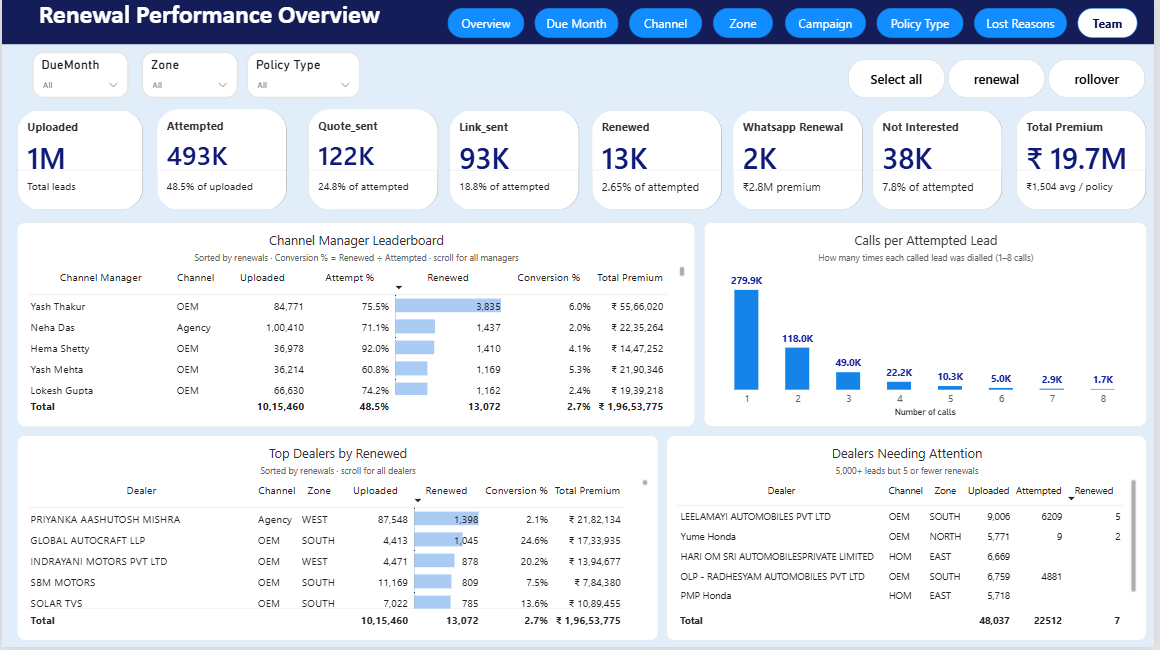

This screenshot's page, from the dashboard's own definition file:
{"tool":"powerbi","page":{"name":"Team","canvas":[1920,1080],"ordinal":7},"visuals":[{"type":"textbox","box":[0,0,1920,75],"z":0},{"type":"shape","box":[742.5,13.7,128,50],"z":1000,"group":"g1"},{"type":"advancedSlicerVisual","fields":{"Values":["RAW DATA(JAN-SEPT).campignname"]},"box":[1410,100,497.5,65],"z":1000},{"type":"cardVisual","fields":{"Data":["CountNonNull(RAW DATA(JAN-SEPT).assigned_id)"]},"box":[24.4,184.4,210.3,167.5],"z":1000,"group":"g2"},{"type":"group","id":"g1","title":"Group 1","box":[742.5,12.5,1150,52.5],"z":2000},{"type":"shape","box":[888.4,13.7,140,50],"z":2000,"group":"g1"},{"type":"cardVisual","fields":{"Data":["RAW DATA(JAN-SEPT).Attempted"]},"box":[256.4,183,217.6,170.8],"z":2000,"group":"g2"},{"type":"shape","box":[1046.2,13.7,122,50],"z":3000,"group":"g1"},{"type":"group","id":"g2","title":"Group 2","box":[24.4,183,1883.5,170.8],"z":3000},{"type":"shape","box":[1186.1,13.7,100,50],"z":4000,"group":"g1"},{"type":"slicer","fields":{"Values":["RAW DATA(JAN-SEPT).DueMonth"]},"box":[48.8,87.8,161,78.1],"z":4000,"group":"g3"},{"type":"tableEx","title":"Channel Manager Leaderboard","fields":{"Values":["RAW DATA(JAN-SEPT).ChannelManager","RAW DATA(JAN-SEPT).channel","RAW DATA(JAN-SEPT).Uploaded","RAW DATA(JAN-SEPT).Attempt %","RAW DATA(JAN-SEPT).Renewed","RAW DATA(JAN-SEPT).Conversion % (Matrix)","RAW DATA(JAN-SEPT).Total Premium"]},"box":[24,372,1130,340],"z":4000},{"type":"shape","box":[1303.9,13.7,135,50],"z":5000,"group":"g1"},{"type":"group","id":"g3","title":"Group 3","box":[48.8,87.8,549,78.1],"z":5000},{"type":"slicer","fields":{"Values":["RAW DATA(JAN-SEPT).dealerzone"]},"box":[231.8,87.8,161,78.1],"z":5000,"group":"g3"},{"type":"cardVisual","fields":{"Data":["RAW DATA(JAN-SEPT).Link_sent_count"]},"box":[744.8,185,217.9,167.5],"z":5000,"group":"g2"},{"type":"shape","box":[1456.8,13.7,145,50],"z":6000,"group":"g1"},{"type":"slicer","fields":{"Values":["RAW DATA(JAN-SEPT).renewal_type"]},"box":[407.5,87.8,190.3,78.1],"z":6000,"group":"g3"},{"type":"cardVisual","fields":{"Data":["RAW DATA(JAN-SEPT).Renewed"]},"box":[983,185,217.9,167.5],"z":6000,"group":"g2"},{"type":"clusteredColumnChart","title":"Calls per Attempted Lead","fields":{"Category":["RAW DATA(JAN-SEPT).attempt_count"],"Y":["RAW DATA(JAN-SEPT).Attempted"]},"box":[1170,372,738,340],"z":6000},{"type":"shape","box":[1619.6,13.7,155,50],"z":7000,"group":"g1"},{"type":"tableEx","title":"Top Dealers by Renewed","fields":{"Values":["RAW DATA(JAN-SEPT).DisplayName","RAW DATA(JAN-SEPT).channel","RAW DATA(JAN-SEPT).dealerzone","RAW DATA(JAN-SEPT).Uploaded","RAW DATA(JAN-SEPT).Renewed","RAW DATA(JAN-SEPT).Conversion % (Matrix)","RAW DATA(JAN-SEPT).Total Premium"]},"box":[24.4,727.1,1068.6,341.6],"z":7000},{"type":"shape","box":[1792.5,13.7,100,50],"z":8000,"group":"g1"},{"type":"tableEx","title":"Dealers Needing Attention","fields":{"Values":["RAW DATA(JAN-SEPT).DisplayName","RAW DATA(JAN-SEPT).channel","RAW DATA(JAN-SEPT).dealerzone","RAW DATA(JAN-SEPT).Uploaded","RAW DATA(JAN-SEPT).Attempted","RAW DATA(JAN-SEPT).Renewed"]},"box":[1107.7,727.1,800.3,341.6],"z":8000},{"type":"cardVisual","fields":{"Data":["RAW DATA(JAN-SEPT).Whatsapp_renewal_count"]},"box":[1216.1,185,217.9,167.5],"z":10000,"group":"g2"},{"type":"cardVisual","fields":{"Data":["RAW DATA(JAN-SEPT).Not Interested"]},"box":[1449.3,185,217.9,167.5],"z":11000,"group":"g2"},{"type":"cardVisual","fields":{"Data":["RAW DATA(JAN-SEPT).Total Premium"]},"box":[1690,185,217.9,167.5],"z":12000,"group":"g2"},{"type":"cardVisual","fields":{"Data":["RAW DATA(JAN-SEPT).Quote_sent"]},"box":[508.6,183,217.6,170.8],"z":12009,"group":"g2"}]}

Visuals, with their boxes in screenshot pixels (x1, y1, x2, y2), scaled from the page's 1920x1080 canvas onto the 1160x650 screenshot:
textbox: [left=0, top=0, right=1159, bottom=45]
shape: [left=449, top=8, right=526, bottom=38]
advancedSlicerVisual - RAW DATA(JAN-SEPT).campignname: [left=852, top=60, right=1152, bottom=99]
cardVisual - CountNonNull(RAW DATA(JAN-SEPT).assigned_id): [left=15, top=111, right=142, bottom=212]
"Group 1" group: [left=449, top=8, right=1143, bottom=39]
shape: [left=537, top=8, right=621, bottom=38]
cardVisual - RAW DATA(JAN-SEPT).Attempted: [left=155, top=110, right=286, bottom=213]
shape: [left=632, top=8, right=706, bottom=38]
"Group 2" group: [left=15, top=110, right=1153, bottom=213]
shape: [left=717, top=8, right=777, bottom=38]
slicer - RAW DATA(JAN-SEPT).DueMonth: [left=29, top=53, right=127, bottom=100]
"Channel Manager Leaderboard" tableEx: [left=14, top=224, right=697, bottom=429]
shape: [left=788, top=8, right=869, bottom=38]
"Group 3" group: [left=29, top=53, right=361, bottom=100]
slicer - RAW DATA(JAN-SEPT).dealerzone: [left=140, top=53, right=237, bottom=100]
cardVisual - RAW DATA(JAN-SEPT).Link_sent_count: [left=450, top=111, right=582, bottom=212]
shape: [left=880, top=8, right=968, bottom=38]
slicer - RAW DATA(JAN-SEPT).renewal_type: [left=246, top=53, right=361, bottom=100]
cardVisual - RAW DATA(JAN-SEPT).Renewed: [left=594, top=111, right=726, bottom=212]
"Calls per Attempted Lead" clusteredColumnChart: [left=707, top=224, right=1153, bottom=429]
shape: [left=979, top=8, right=1072, bottom=38]
"Top Dealers by Renewed" tableEx: [left=15, top=438, right=660, bottom=643]
shape: [left=1083, top=8, right=1143, bottom=38]
"Dealers Needing Attention" tableEx: [left=669, top=438, right=1153, bottom=643]
cardVisual - RAW DATA(JAN-SEPT).Whatsapp_renewal_count: [left=735, top=111, right=866, bottom=212]
cardVisual - RAW DATA(JAN-SEPT).Not Interested: [left=876, top=111, right=1007, bottom=212]
cardVisual - RAW DATA(JAN-SEPT).Total Premium: [left=1021, top=111, right=1153, bottom=212]
cardVisual - RAW DATA(JAN-SEPT).Quote_sent: [left=307, top=110, right=439, bottom=213]
